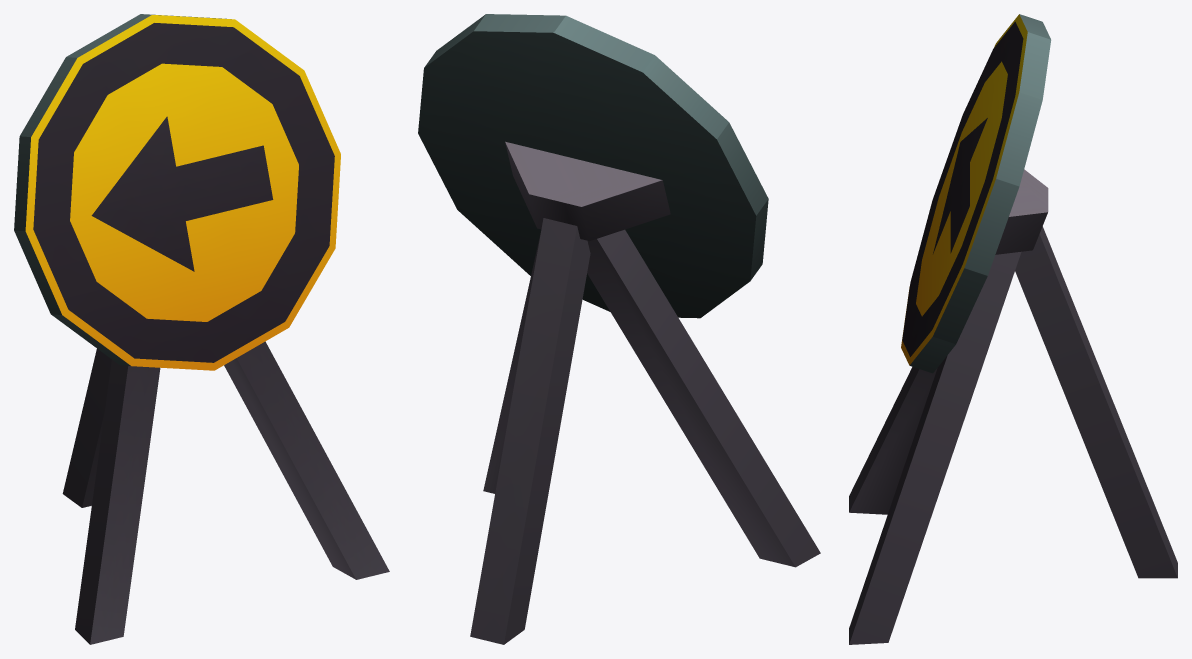
The model's file is Streetsign_3A.fbx.
3 renders of one model, left to right at view 1: azimuth 30°, elevation 25°; view 2: azimuth 150°, elevation 25°; view 3: azimuth 270°, elevation 25°, orthographic. The views are drawn at different scales.
Visible parts, largest first — view 1: Streetsign_3A; view 2: Streetsign_3A; view 3: Streetsign_3A.
Part boxes in pixels (x1,y1,x2,y2): Streetsign_3A: [14, 14, 389, 644]; Streetsign_3A: [418, 14, 820, 644]; Streetsign_3A: [849, 14, 1177, 644].
Size of the model in its own units: 0.8897 by 1.43 by 0.7891.
